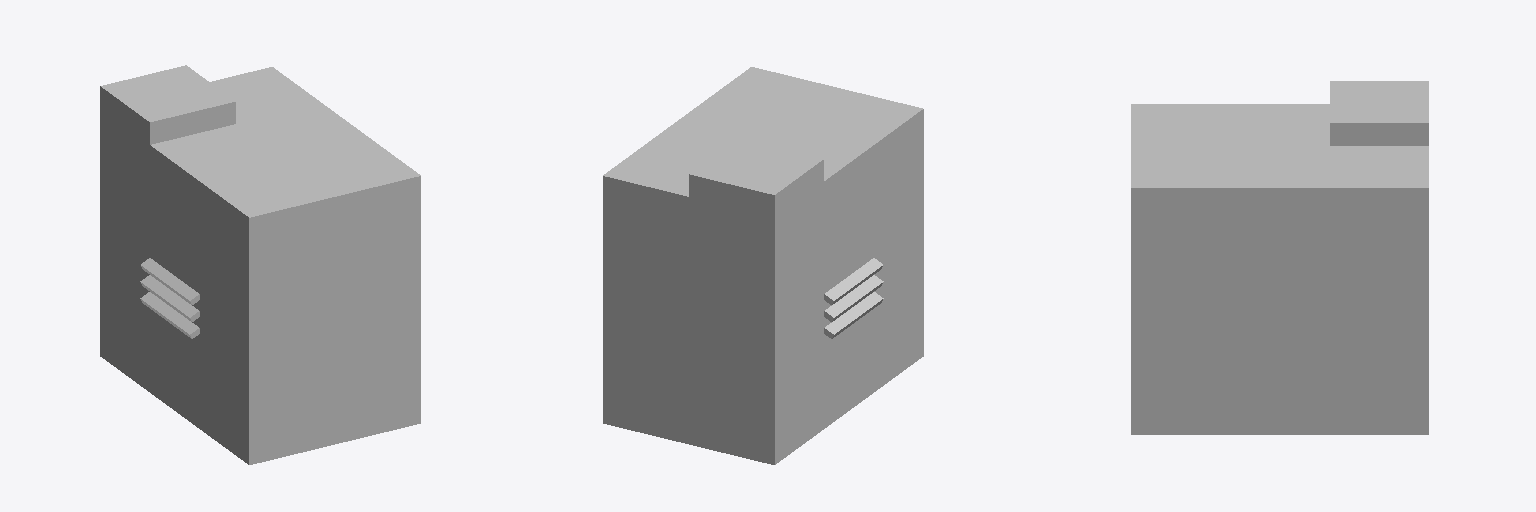
Rendered from tresher_mirrored.obj.
The picture shows the model from 3 angles: view 1: azimuth 30°, elevation 25°; view 2: azimuth 150°, elevation 25°; view 3: azimuth 270°, elevation 25°; orthographic projection.
Parts seen in each view (by area): view 1: cube; view 2: cube; view 3: cube.
Boxes of the visible parts, x1,y1,x2,y2 form: cube: [100, 65, 420, 464]; cube: [603, 67, 923, 464]; cube: [1131, 81, 1428, 434].
Size of the model in its own units: 2.11 by 3 by 3.